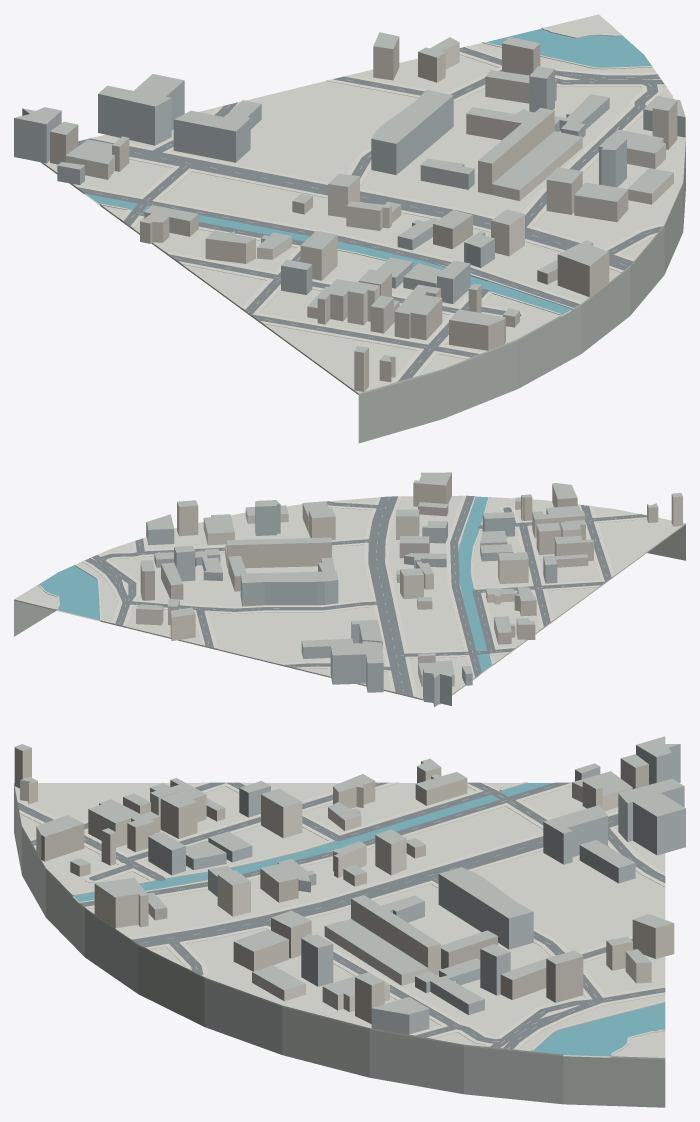
The picture shows the model from 3 angles, top to bottom: view 1: azimuth 30°, elevation 25°; view 2: azimuth 150°, elevation 25°; view 3: azimuth 270°, elevation 25°; orthographic projection. The views are drawn at different scales.
Visible parts, largest first — view 1: city; view 2: city; view 3: city.
Boxes of the visible parts, x1,y1,x2,y2 form: city: (14,14,685,443); city: (14,472,685,706); city: (14,736,685,1107).
Bounding box in the file's own units: 391 × 57 × 392.
